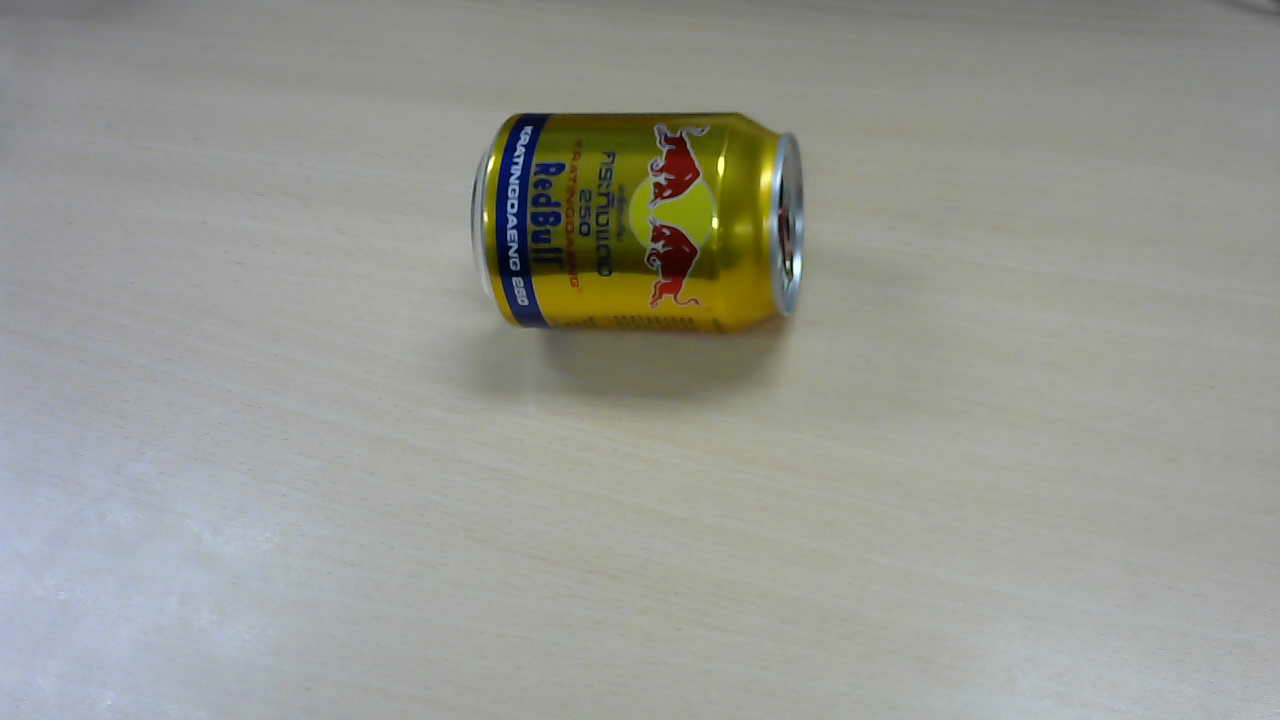Red_Bull: (479, 113, 815, 346)
